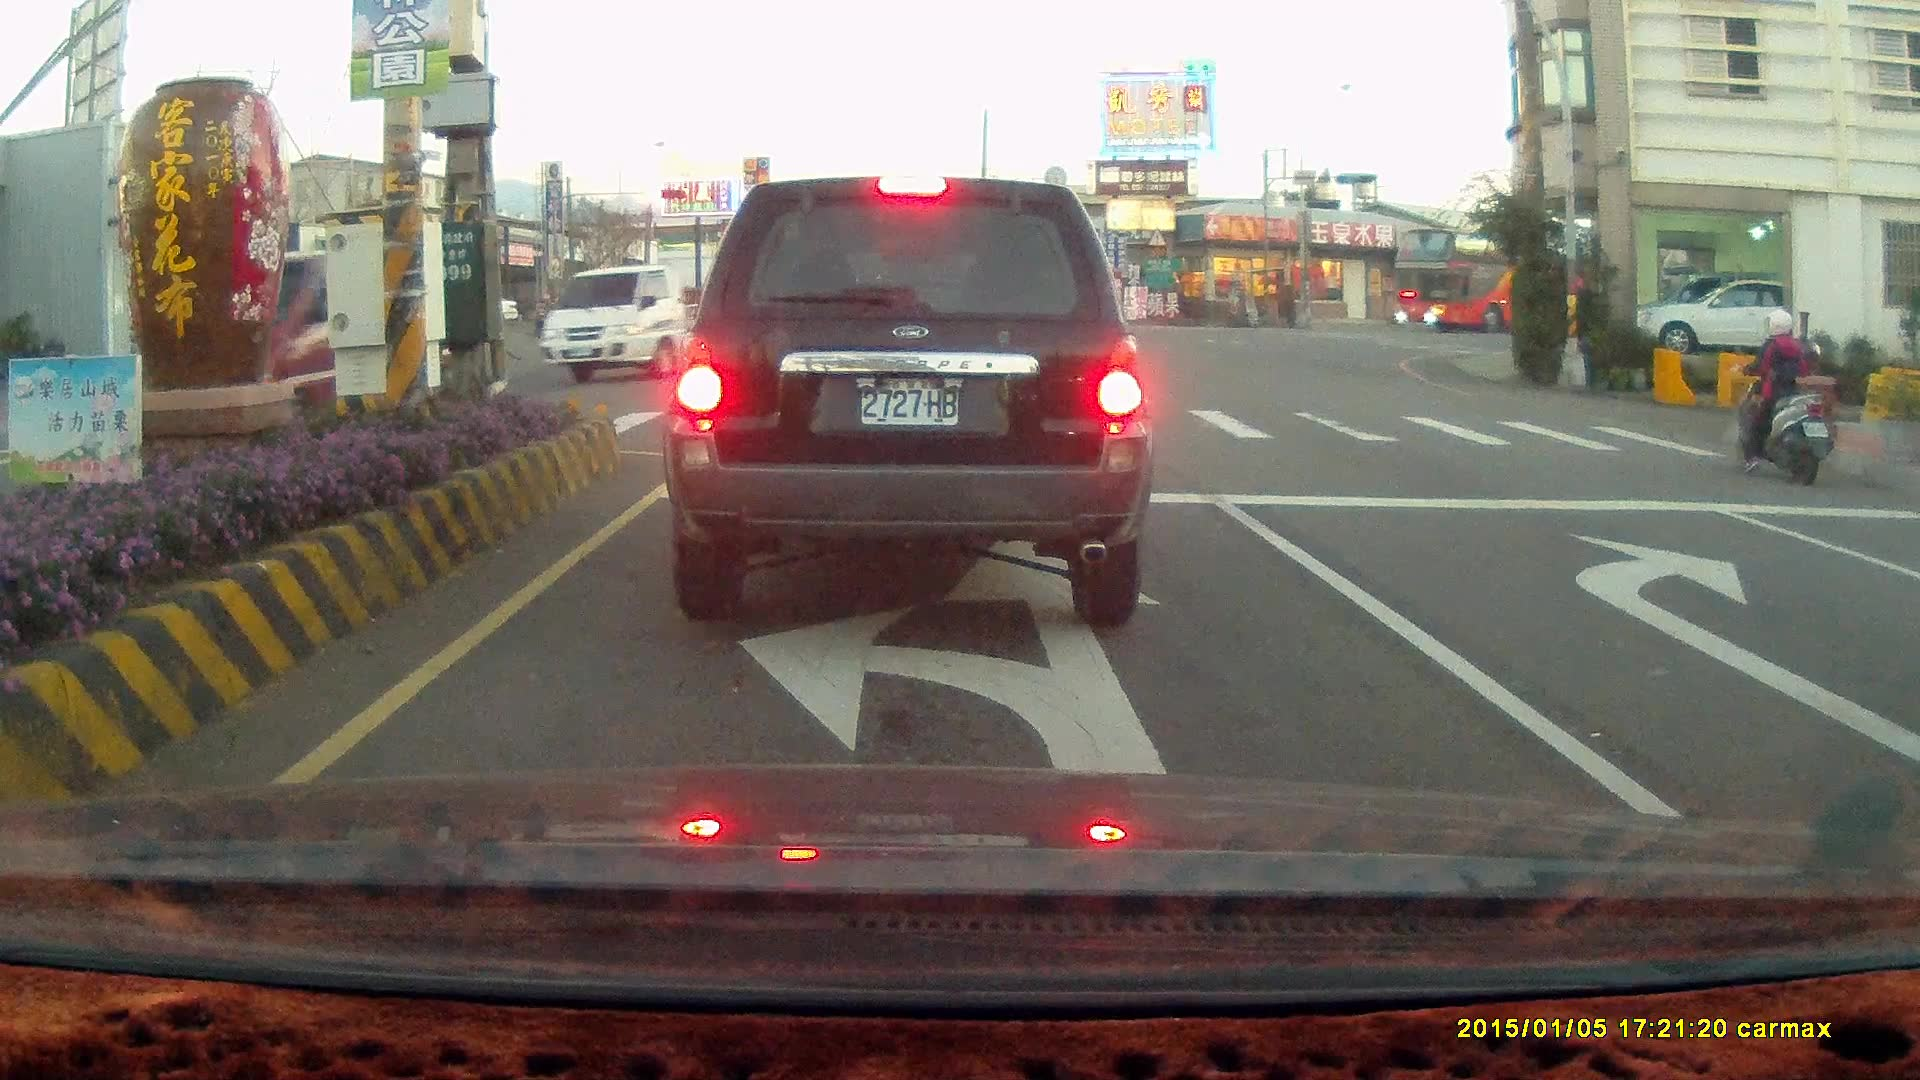rider: (1727, 308, 1831, 483), (527, 293, 556, 337)
vehicle: (661, 174, 1154, 628), (85, 250, 455, 491), (533, 262, 785, 381), (1394, 225, 1597, 334), (1621, 274, 1828, 353), (1642, 275, 1784, 356), (1896, 493, 1920, 836), (1883, 528, 1920, 690)
